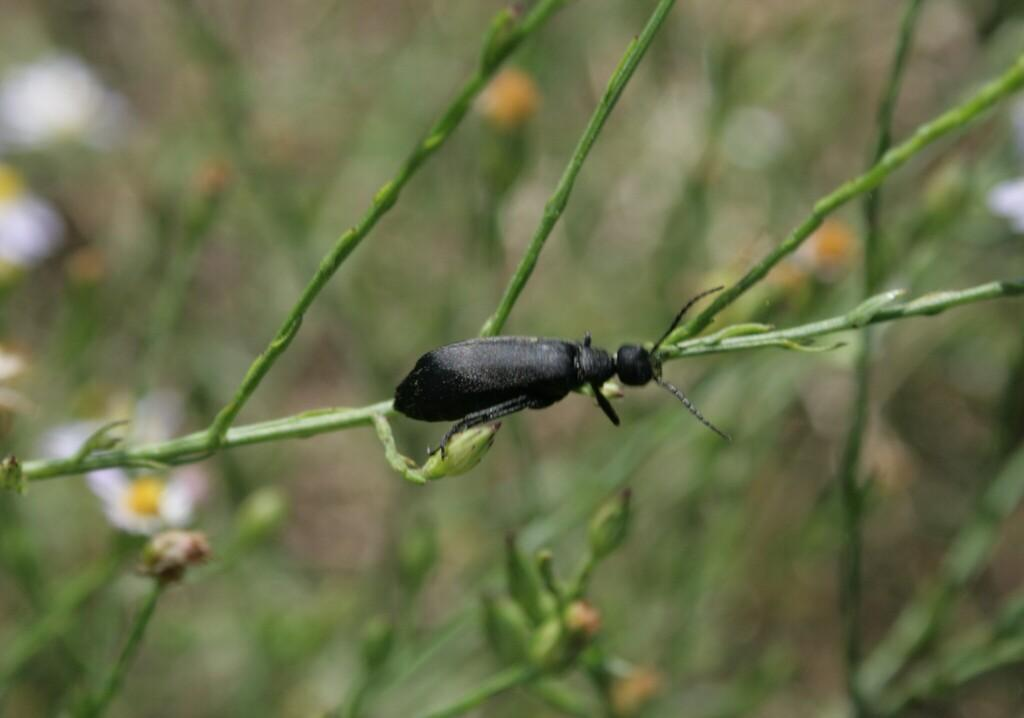blister_beetle: (336, 252, 776, 479)
